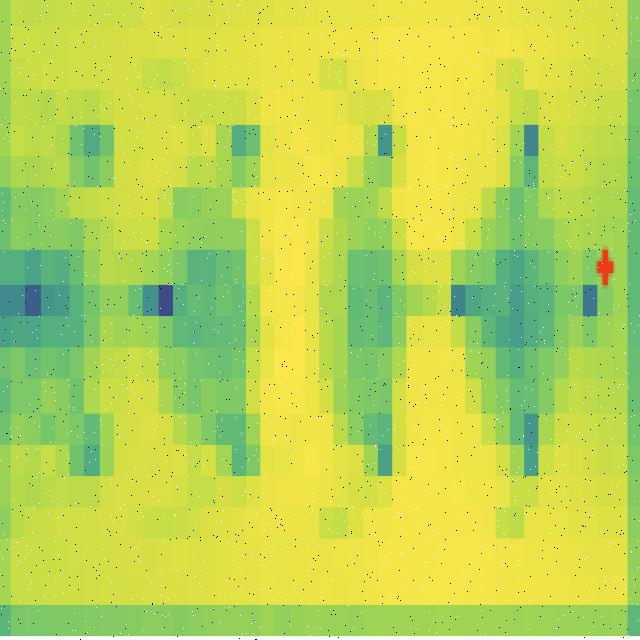Concrete: (159, 163, 266, 470)
Glass: (5, 186, 119, 478)
Metal: (305, 162, 430, 510)
Wood: (463, 151, 575, 475)
